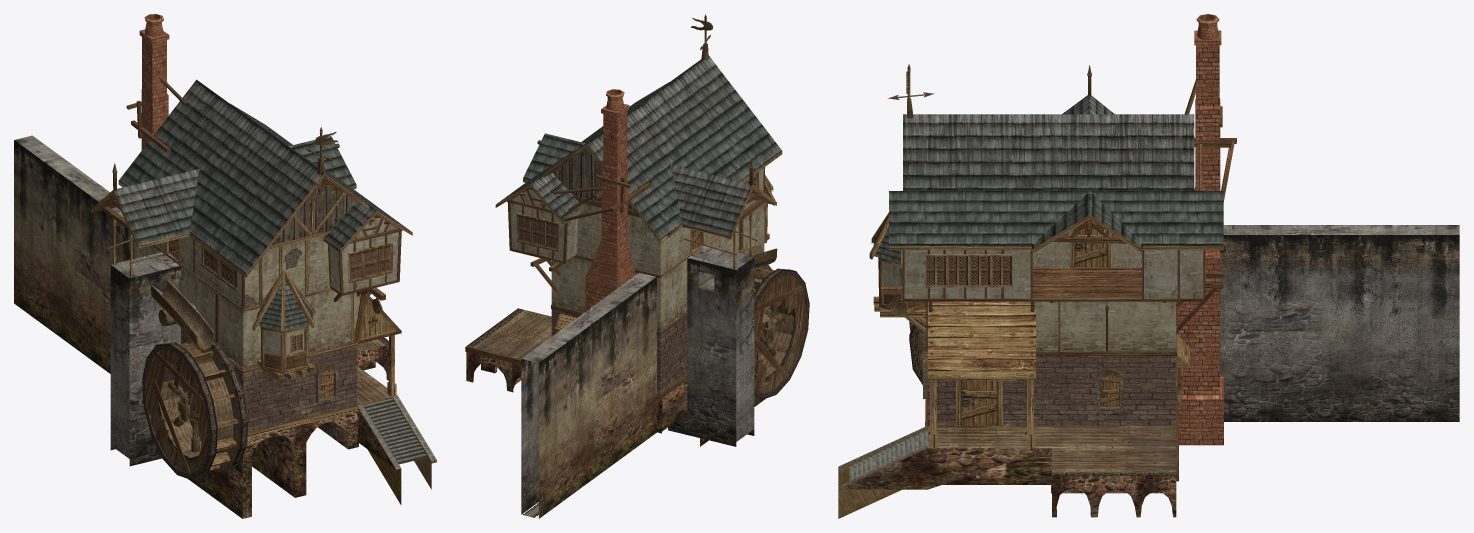
Rendered from WaterMill.fbx.
3 views of the same model, side by side, from view 1: azimuth 30°, elevation 25°; view 2: azimuth 150°, elevation 25°; view 3: azimuth 270°, elevation 25° (orthographic). The views are drawn at different scales.
Visible parts, largest first — view 1: WaterMill; view 2: WaterMill; view 3: WaterMill.
Boxes of the visible parts, x1,y1,x2,y2 form: WaterMill: (14, 14, 436, 518); WaterMill: (465, 14, 809, 518); WaterMill: (838, 14, 1459, 518).
Size of the model in its own units: 1641 by 2403 by 2936.
